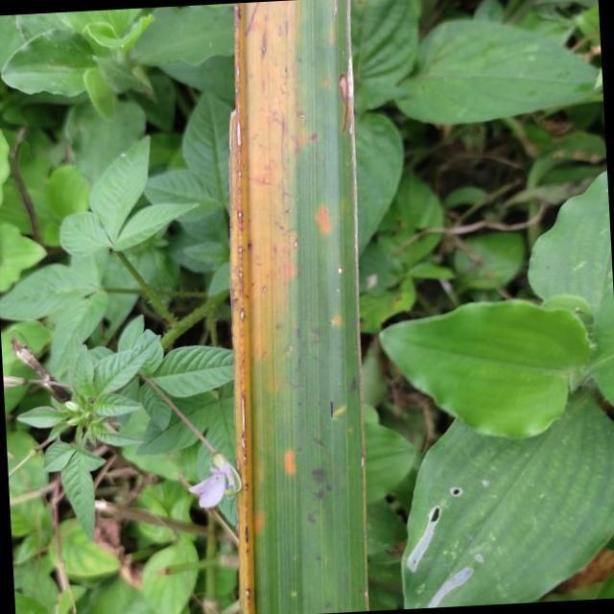Megnesium: (227, 0, 371, 614)
